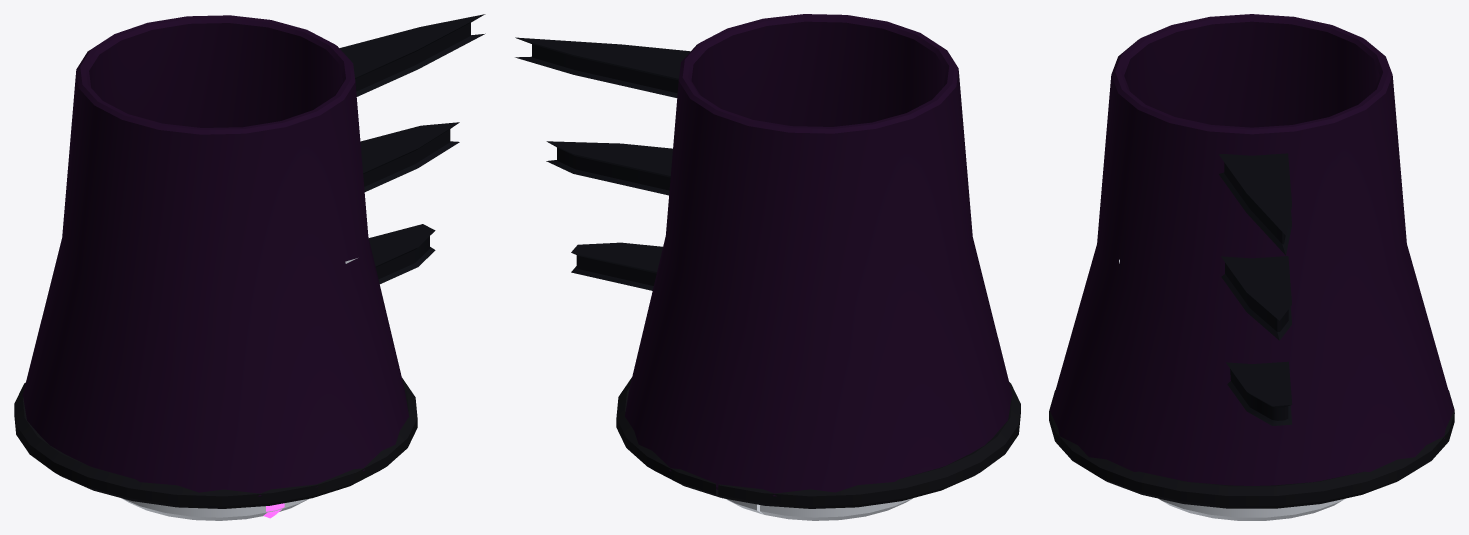
The model's file is esc_entropy_magus_gloves.glb.
3 views of the same model, side by side, from view 1: azimuth 30°, elevation 25°; view 2: azimuth 150°, elevation 25°; view 3: azimuth 270°, elevation 25° (orthographic).
Parts seen in each view (by area): view 1: esc_entropy_magus_gloves; view 2: esc_entropy_magus_gloves; view 3: esc_entropy_magus_gloves.
Part boxes in pixels (box(x1,y1,x2,y2)): esc_entropy_magus_gloves: box(14, 14, 485, 520); esc_entropy_magus_gloves: box(515, 14, 1020, 520); esc_entropy_magus_gloves: box(1049, 14, 1454, 520).
Size of the model in its own units: 0.2927 by 0.2464 by 0.2227.
